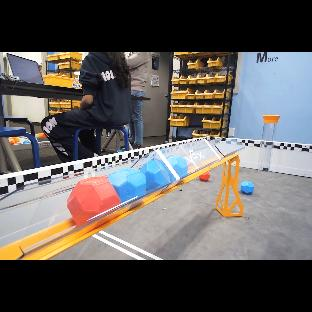V5_BLUE: (108, 158, 175, 202), (166, 155, 188, 179), (241, 181, 254, 194)
V5_RED: (67, 176, 121, 227), (198, 171, 210, 181)
blueingoal: (108, 159, 175, 202), (166, 155, 187, 178)
redingoal: (67, 176, 121, 226)
